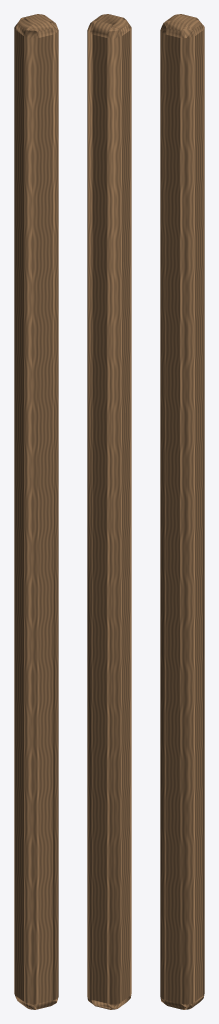
File: ShopCornerPost90.glb
3 views of the same model, side by side, from view 1: azimuth 30°, elevation 25°; view 2: azimuth 150°, elevation 25°; view 3: azimuth 330°, elevation 25° (orthographic).
Parts seen in each view (by area): view 1: PBK_ShopCornerPost90.021; view 2: PBK_ShopCornerPost90.021; view 3: PBK_ShopCornerPost90.021.
Part boxes in pixels (bbox=[...]): PBK_ShopCornerPost90.021: bbox=[14, 14, 58, 1009]; PBK_ShopCornerPost90.021: bbox=[87, 14, 131, 1009]; PBK_ShopCornerPost90.021: bbox=[160, 14, 204, 1009].
Size of the model in its own units: 0.1 by 2.84 by 0.1.
Materials: 1 (1 with a texture image).
